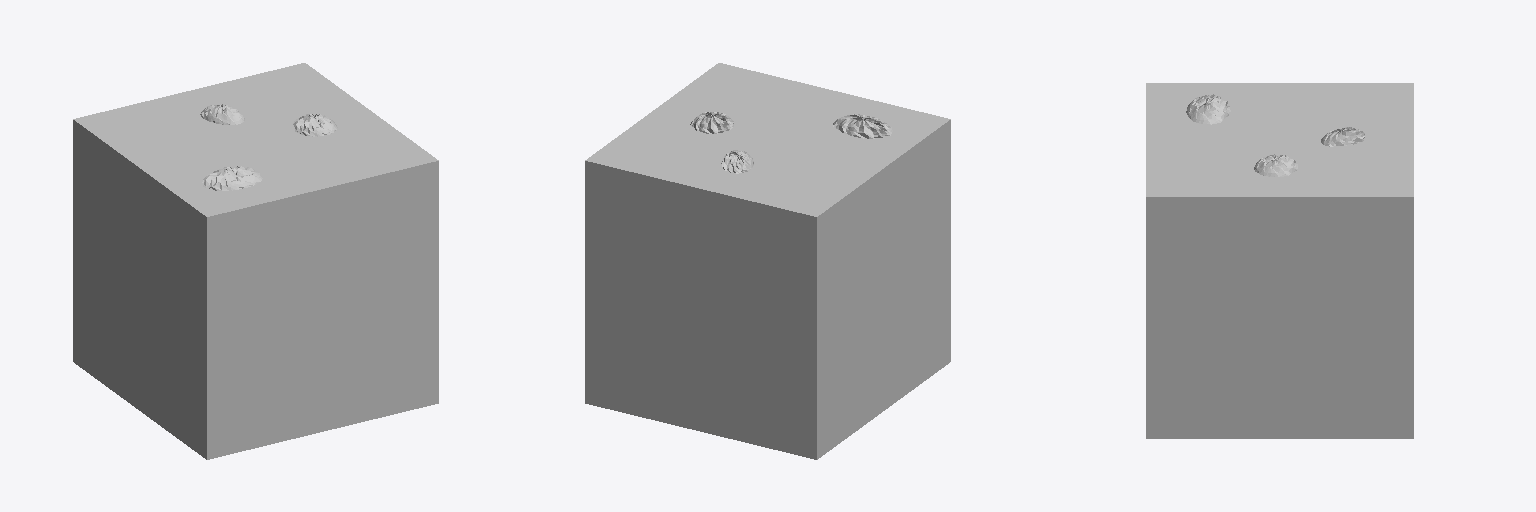
File: Trawa 2.obj
3 renders of one model, left to right at view 1: azimuth 30°, elevation 25°; view 2: azimuth 150°, elevation 25°; view 3: azimuth 270°, elevation 25°, orthographic.
Parts seen in each view (by area): view 1: Cube, Sphere.001, Sphere, Sphere.002; view 2: Cube, Sphere.001, Sphere, Sphere.002; view 3: Cube, Sphere.001, Sphere, Sphere.002.
Boxes of the visible parts, box(x1,y1,x2,y2) form: Cube: box(73, 63, 438, 459); Sphere.001: box(202, 166, 262, 190); Sphere: box(293, 114, 337, 136); Sphere.002: box(200, 104, 244, 124); Cube: box(585, 63, 950, 459); Sphere.001: box(833, 114, 892, 138); Sphere: box(690, 112, 733, 133); Sphere.002: box(721, 150, 753, 173); Cube: box(1146, 83, 1413, 438); Sphere.001: box(1186, 94, 1230, 124); Sphere: box(1254, 154, 1297, 176); Sphere.002: box(1321, 127, 1364, 146).
Bounding box in the file's own units: 2 × 2.09 × 2.